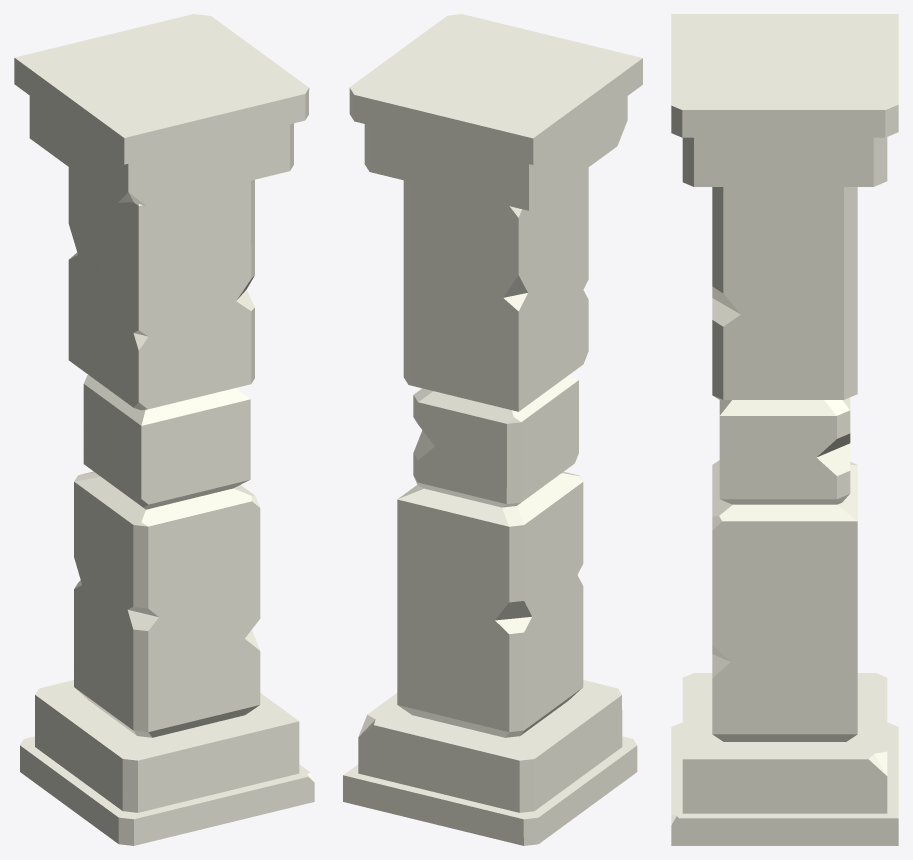
Rendered from Stone_Pillar.fbx.
3 renders of one model, left to right at view 1: azimuth 30°, elevation 25°; view 2: azimuth 150°, elevation 25°; view 3: azimuth 270°, elevation 25°, orthographic. The views are drawn at different scales.
Visible parts, largest first — view 1: Stone_Pillar_2; view 2: Stone_Pillar_2; view 3: Stone_Pillar_2.
Boxes of the visible parts, x1,y1,x2,y2 form: Stone_Pillar_2: (14, 14, 314, 845); Stone_Pillar_2: (343, 14, 642, 845); Stone_Pillar_2: (671, 14, 898, 845).
Bounding box in the file's own units: 0.8408 × 3 × 0.8408.
